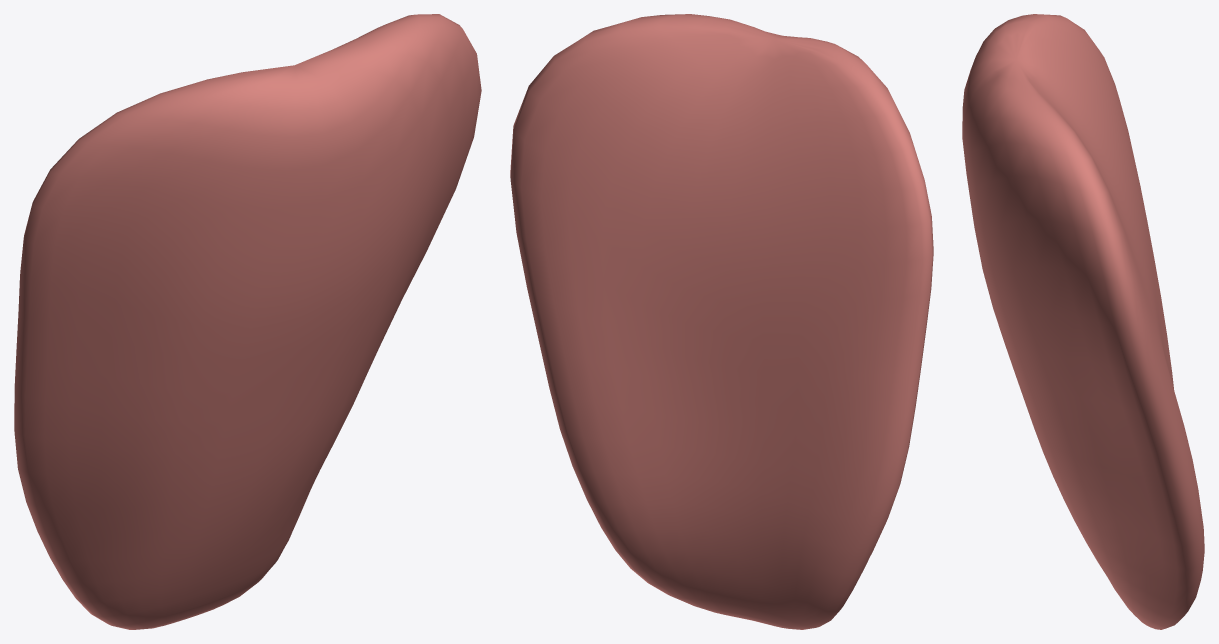
3 renders of one model, left to right at view 1: azimuth 30°, elevation 25°; view 2: azimuth 150°, elevation 25°; view 3: azimuth 270°, elevation 25°, orthographic. The views are drawn at different scales.
Parts seen in each view (by area): view 1: ZA_9c1994cf9c73c254; view 2: ZA_9c1994cf9c73c254; view 3: ZA_9c1994cf9c73c254.
Boxes of the visible parts, x1,y1,x2,y2 form: ZA_9c1994cf9c73c254: [14, 14, 481, 629]; ZA_9c1994cf9c73c254: [510, 14, 933, 629]; ZA_9c1994cf9c73c254: [962, 14, 1204, 629].
Bounding box in the file's own units: 0.0186 × 0.0228 × 0.00882.
